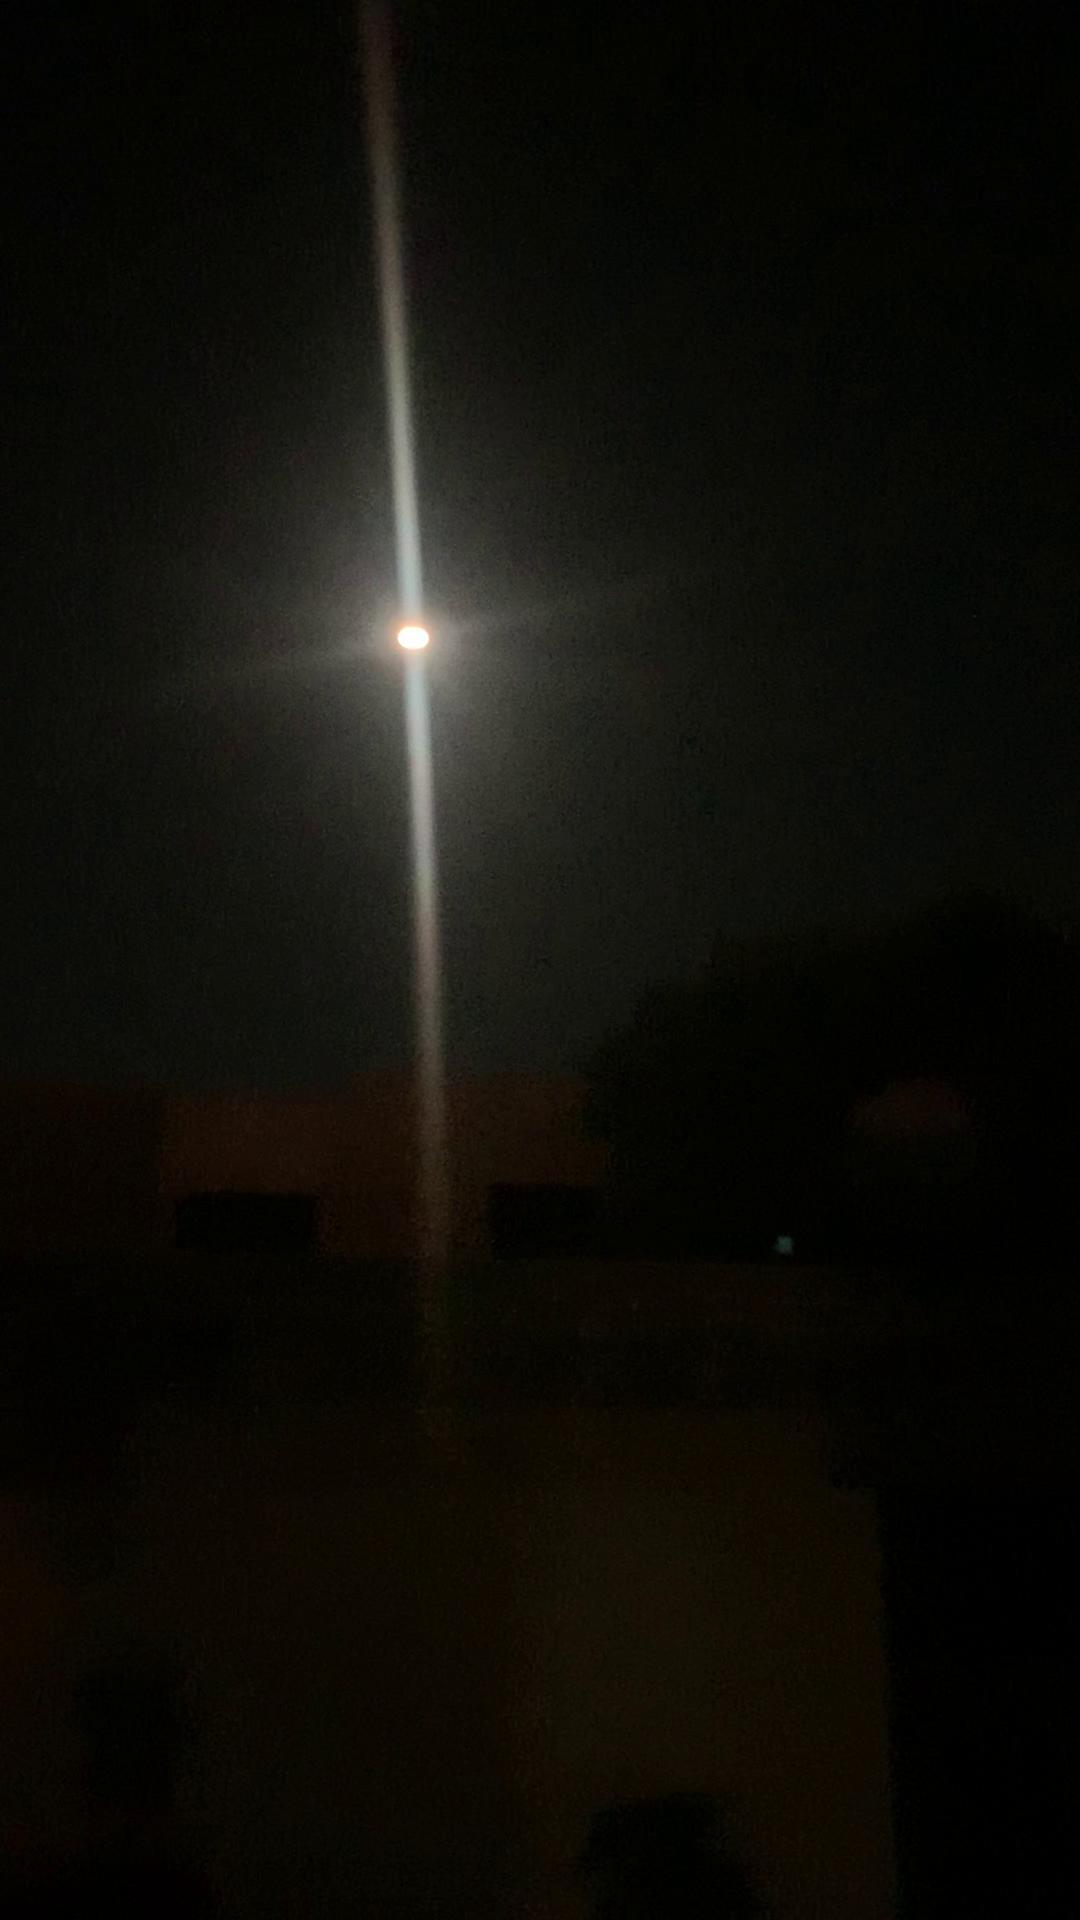moon: (375, 603, 450, 680)
